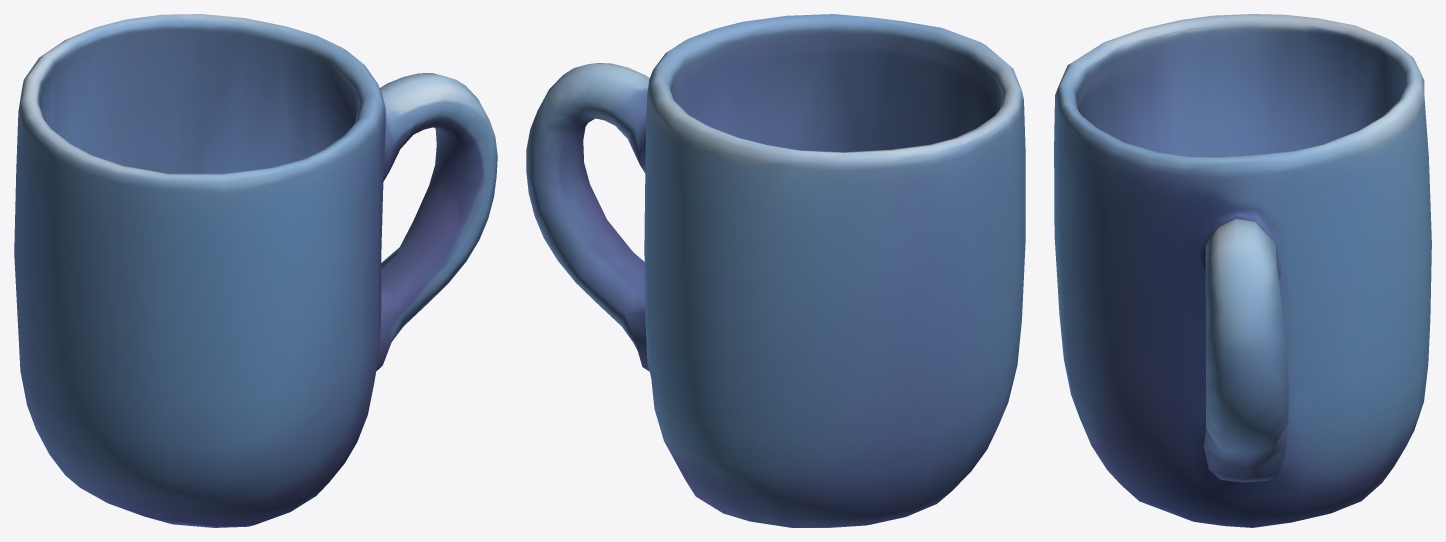
The model's file is blue_mug_3d_model.fbx.
3 views of the same model, side by side, from view 1: azimuth 30°, elevation 25°; view 2: azimuth 150°, elevation 25°; view 3: azimuth 270°, elevation 25° (orthographic). The views are drawn at different scales.
Parts seen in each view (by area): view 1: tripo_774e9d93_40e9_44f9_99b5_49407926ac96; view 2: tripo_774e9d93_40e9_44f9_99b5_49407926ac96; view 3: tripo_774e9d93_40e9_44f9_99b5_49407926ac96.
Part boxes in pixels (bbox=[...]): tripo_774e9d93_40e9_44f9_99b5_49407926ac96: bbox=[14, 14, 497, 527]; tripo_774e9d93_40e9_44f9_99b5_49407926ac96: bbox=[526, 14, 1025, 527]; tripo_774e9d93_40e9_44f9_99b5_49407926ac96: bbox=[1054, 14, 1431, 527].
Size of the model in its own units: 0.9995 by 0.8462 by 0.7183.
